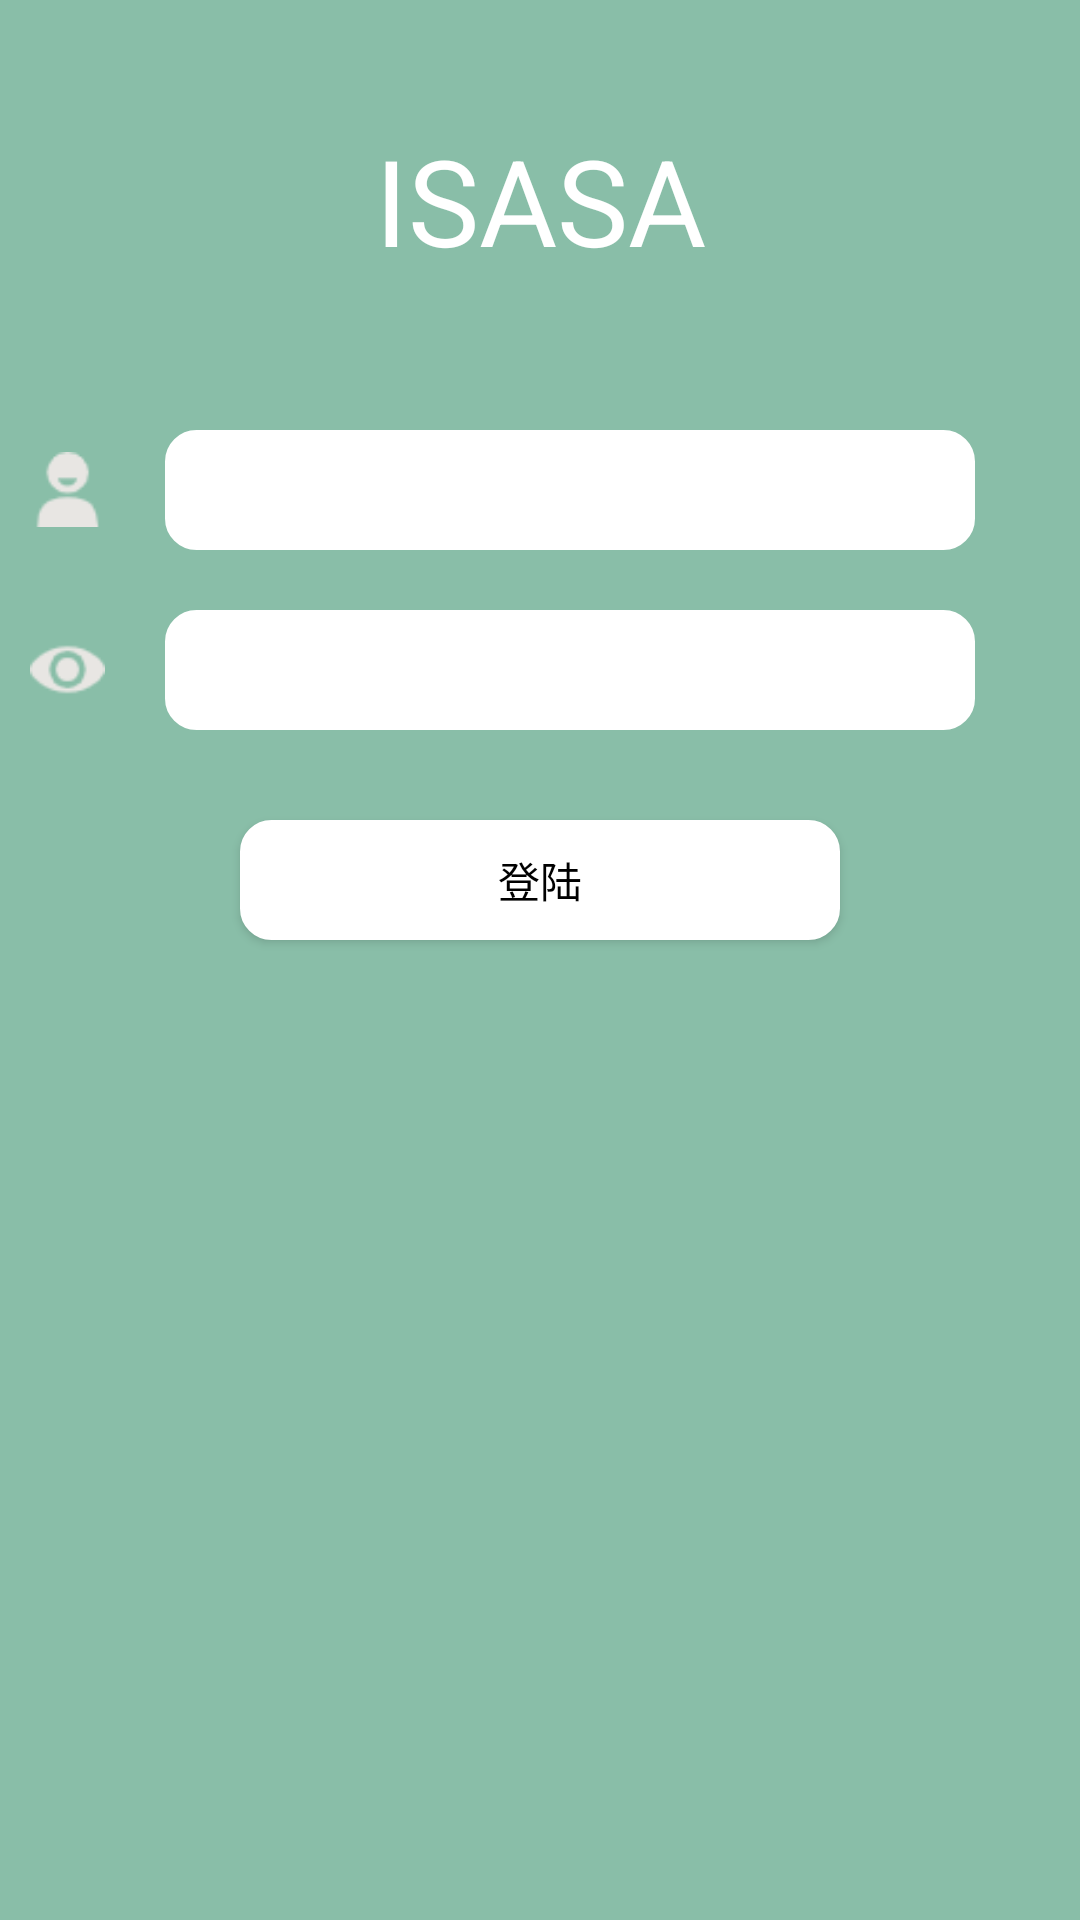

Icons on this 1080x1920 Android screen, each with the point to tap as (x=x, y=y):
account: (x=68, y=489)
